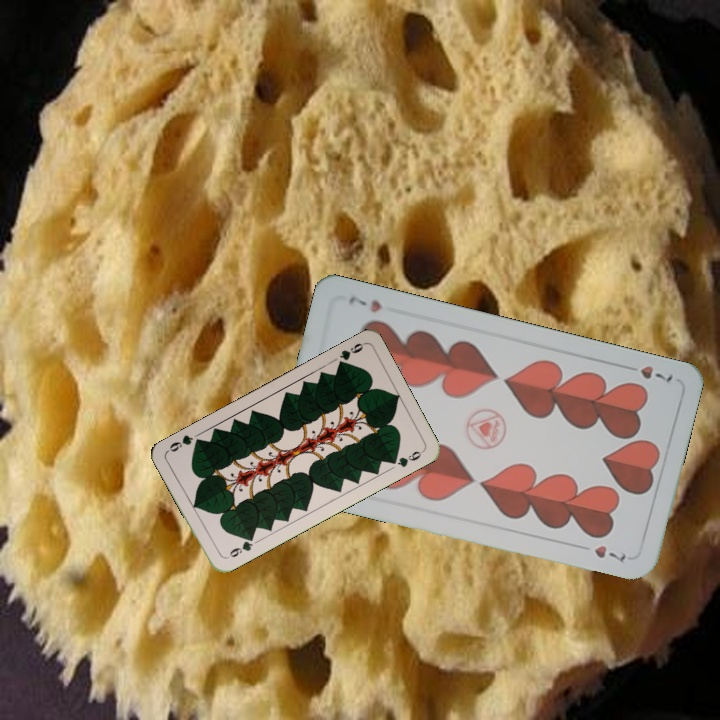G9: (333, 339, 367, 370), (222, 532, 257, 561)
H7: (619, 360, 676, 385)
